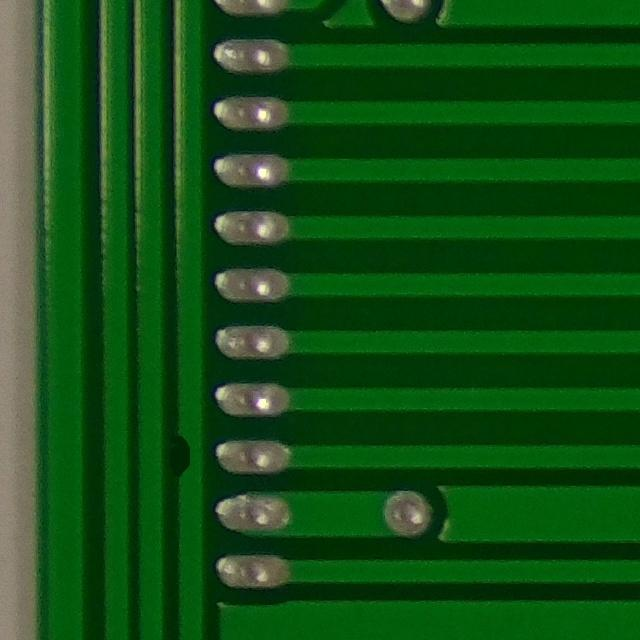mouse_bite: (166, 417, 208, 495)
